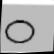no answer: (2, 17, 36, 46)
